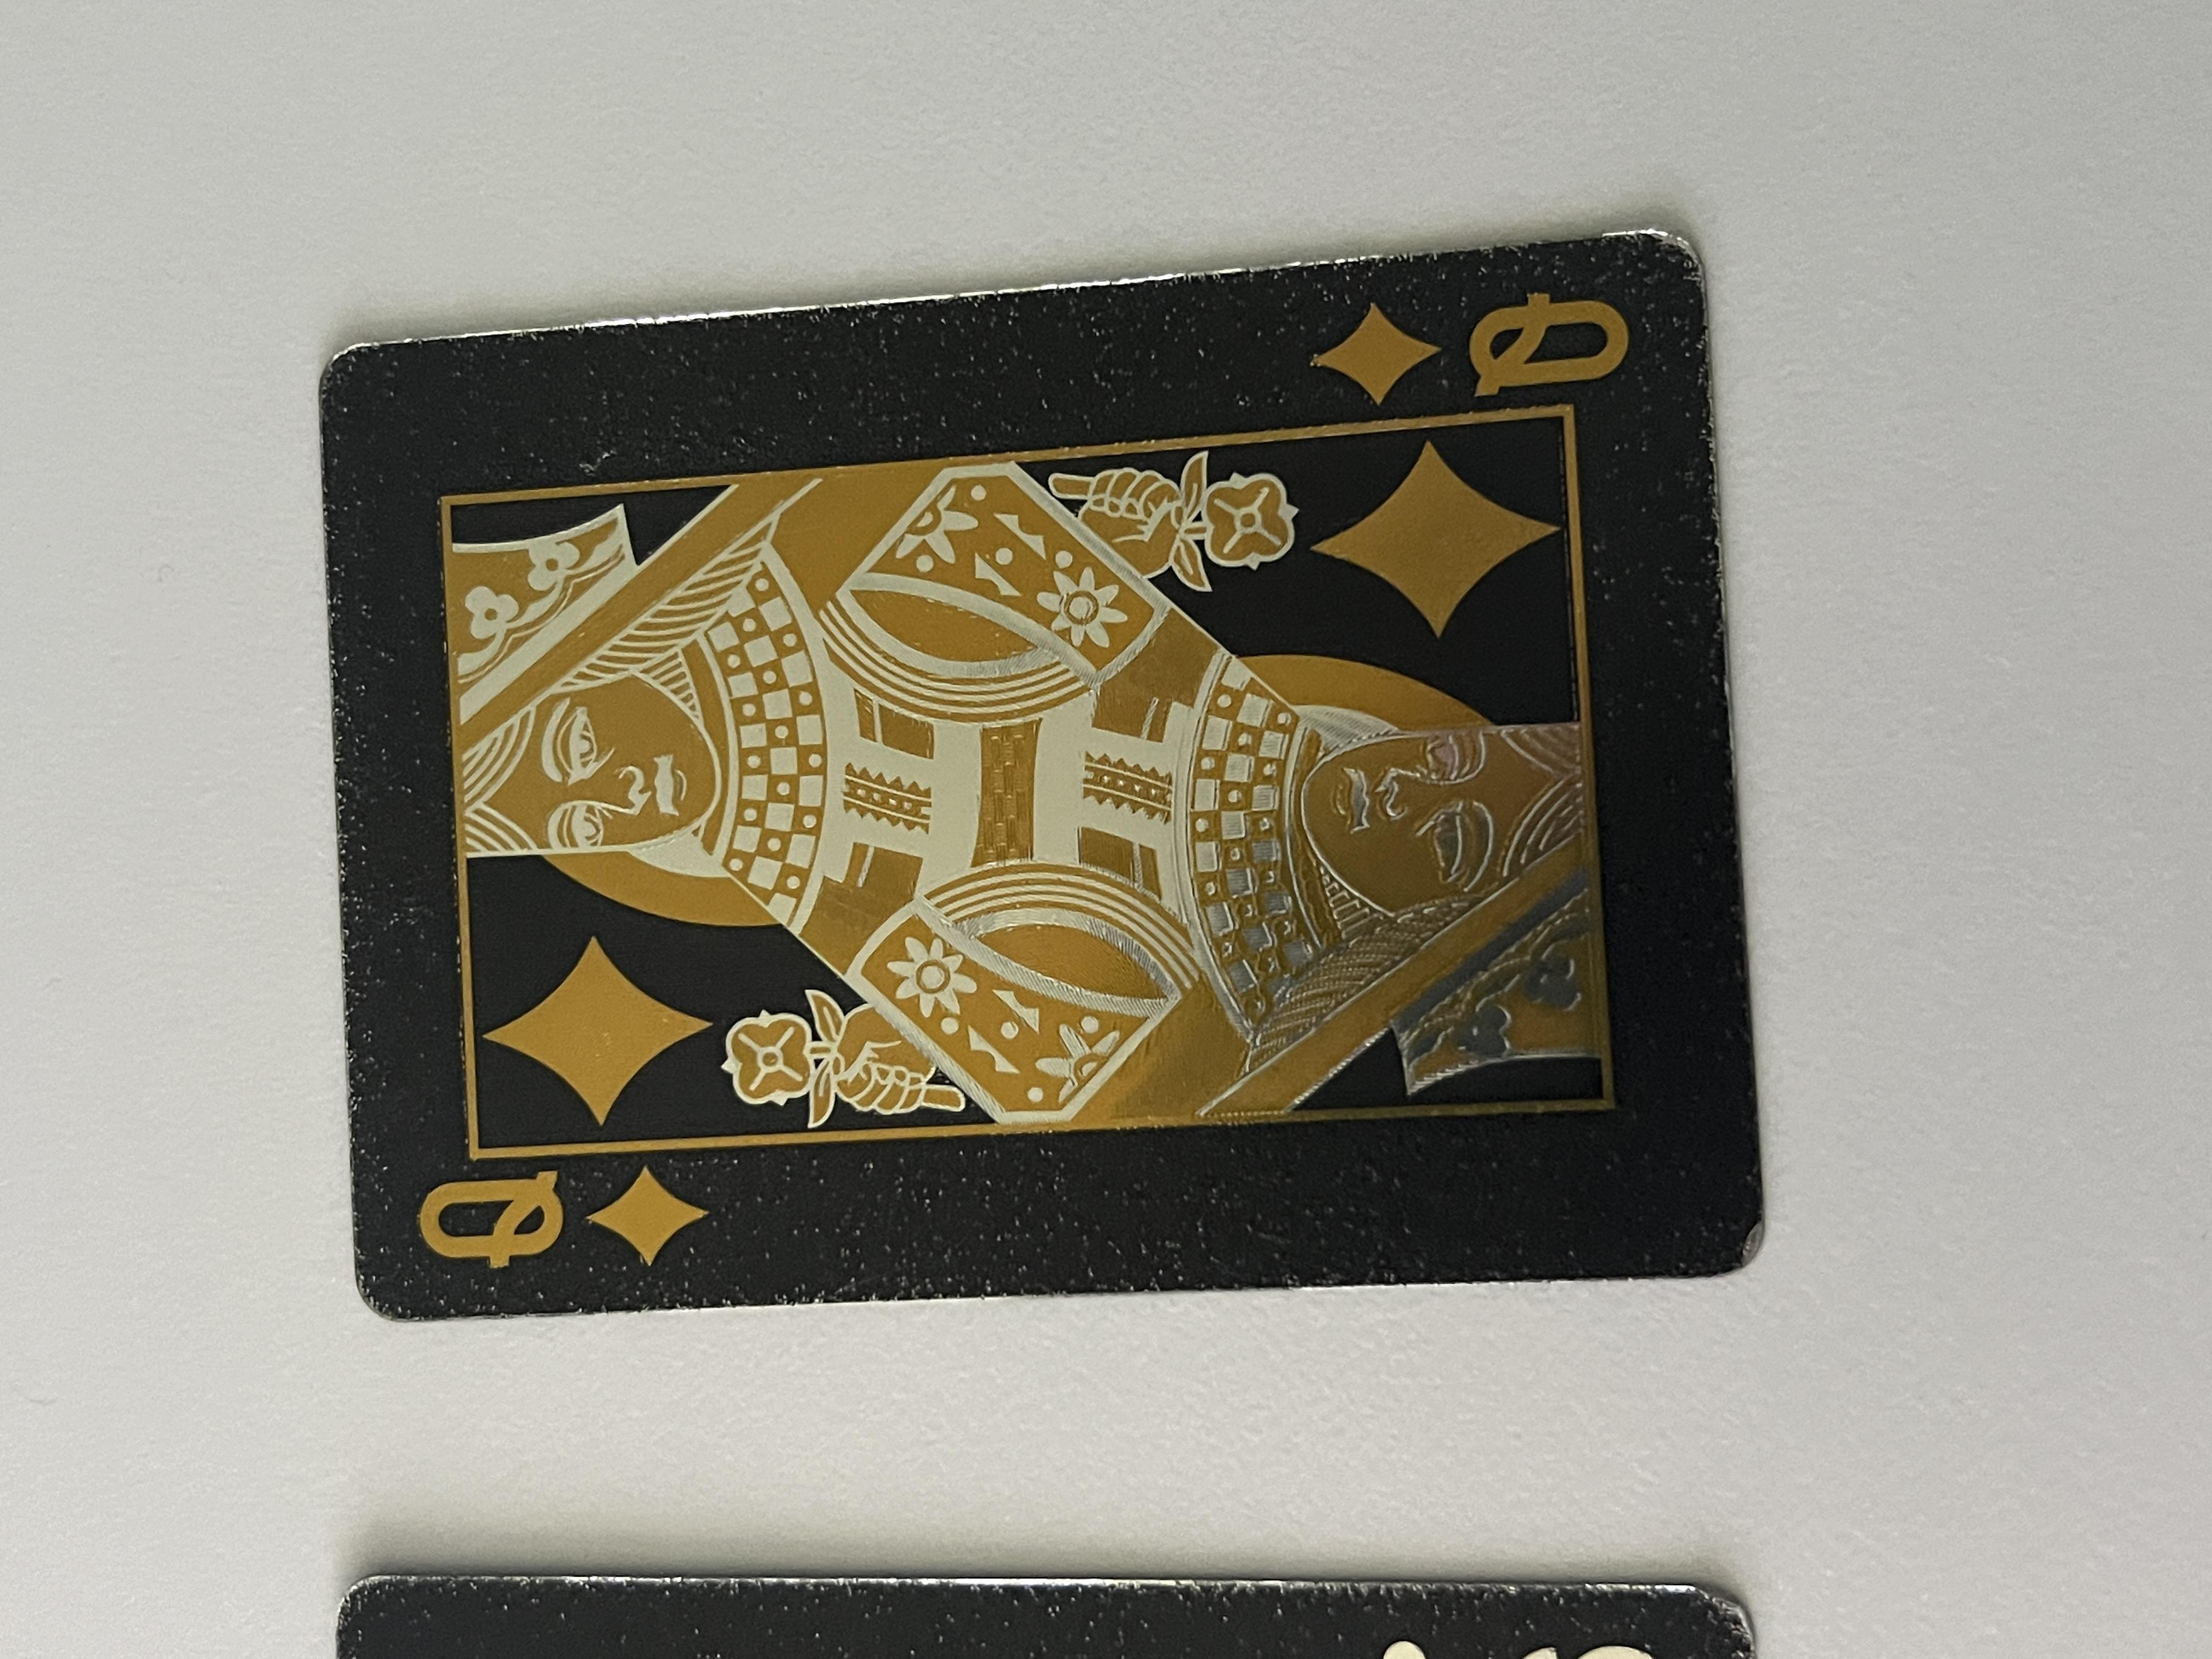QD: (1639, 985, 1855, 1246), (469, 305, 681, 535)
